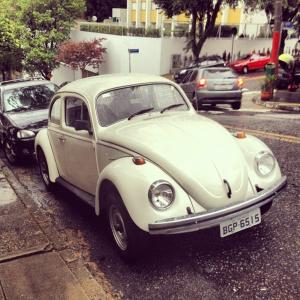Vehicle-registration-plate: (220, 211, 262, 238)
